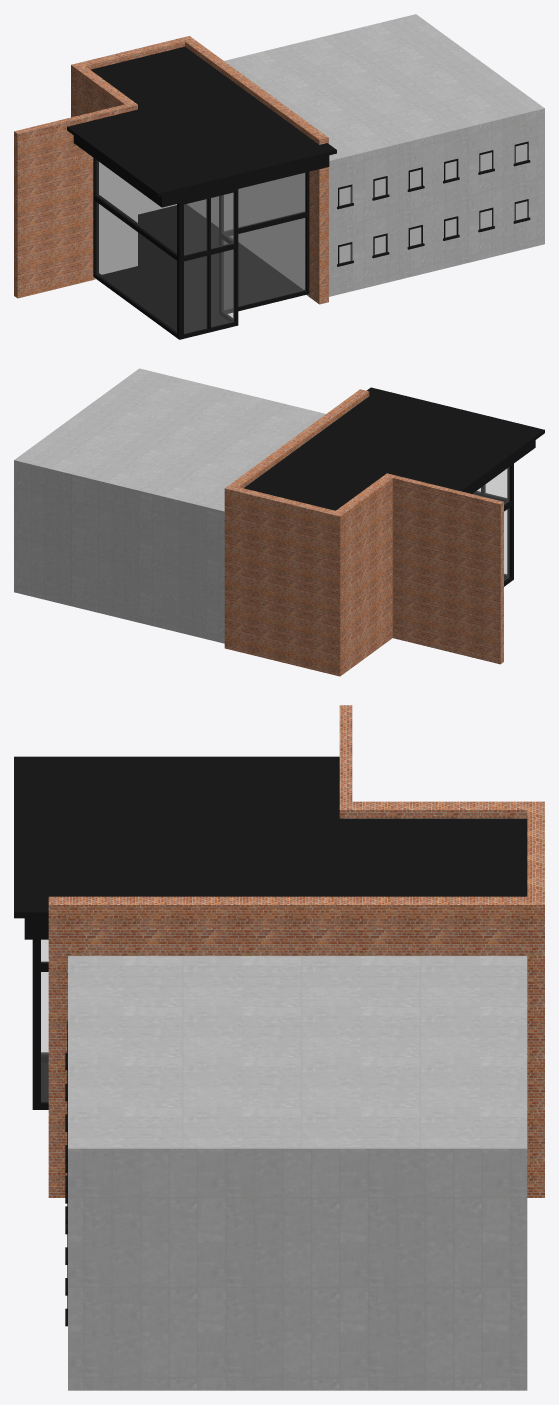
Rendered from Building.glb.
The picture shows the model from 3 angles, top to bottom: view 1: azimuth 30°, elevation 25°; view 2: azimuth 150°, elevation 25°; view 3: azimuth 270°, elevation 25°; orthographic projection. The views are drawn at different scales.
Visible parts, largest first — view 1: Cube.003, Cube.001, Cube.002, Cube, Cube.004, Cube.006, Cube.005; view 2: Cube.003, Cube, Cube.001, Cube.002; view 3: Cube.003, Cube.001, Cube, Cube.002.
Part boxes in pixels (bbox=[...]): Cube.003: bbox=[224, 14, 544, 296]; Cube.001: bbox=[67, 46, 336, 339]; Cube.002: bbox=[97, 161, 305, 333]; Cube: bbox=[14, 36, 328, 304]; Cube.004: bbox=[94, 162, 308, 296]; Cube.006: bbox=[337, 141, 530, 209]; Cube.005: bbox=[337, 199, 530, 266]; Cube.003: bbox=[14, 368, 325, 643]; Cube: bbox=[224, 389, 503, 676]; Cube.001: bbox=[244, 387, 544, 586]; Cube.002: bbox=[473, 467, 509, 580]; Cube.003: bbox=[68, 956, 527, 1390]; Cube.001: bbox=[14, 756, 527, 1109]; Cube: bbox=[48, 705, 544, 1197]; Cube.002: bbox=[41, 940, 48, 1101].
Bounding box in the file's own units: 265 × 92.45 × 152.
Materials: 5 (2 with a texture image).
